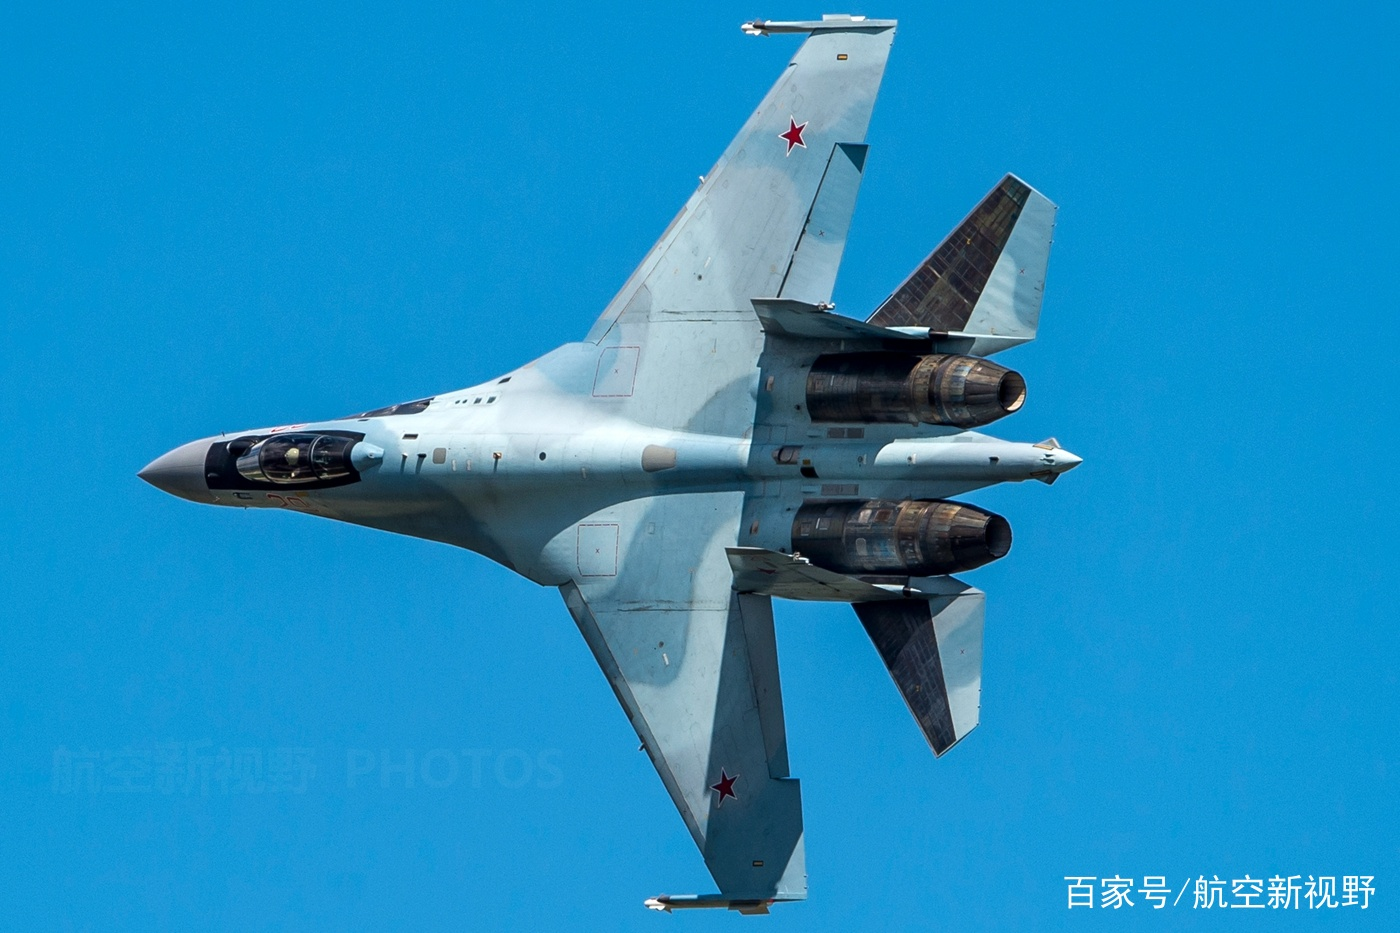airplane: (130, 11, 1085, 915)
